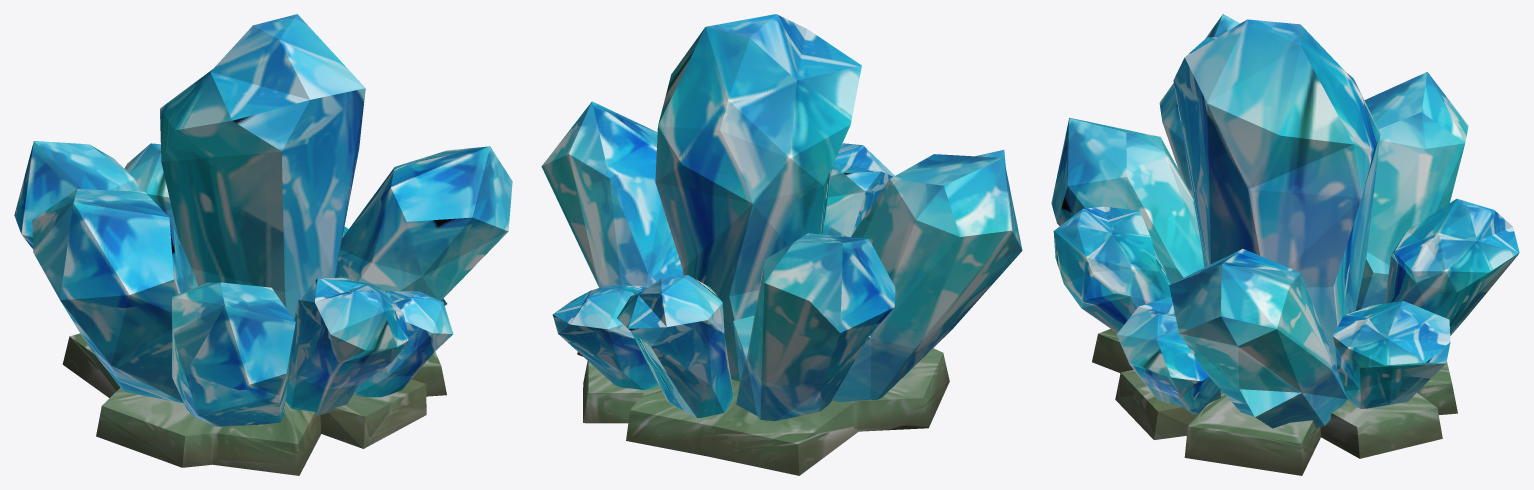
The model's file is Crystal_FBX.FBX.
3 renders of one model, left to right at view 1: azimuth 30°, elevation 25°; view 2: azimuth 150°, elevation 25°; view 3: azimuth 270°, elevation 25°, orthographic. The views are drawn at different scales.
Parts seen in each view (by area): view 1: Crystal_01; view 2: Crystal_01; view 3: Crystal_01.
Part boxes in pixels (left/top/right/bottom): Crystal_01: left=14, top=14, right=512, bottom=475; Crystal_01: left=541, top=14, right=1022, bottom=475; Crystal_01: left=1051, top=14, right=1519, bottom=475.
Bounding box in the file's own units: 188 × 143 × 161.
